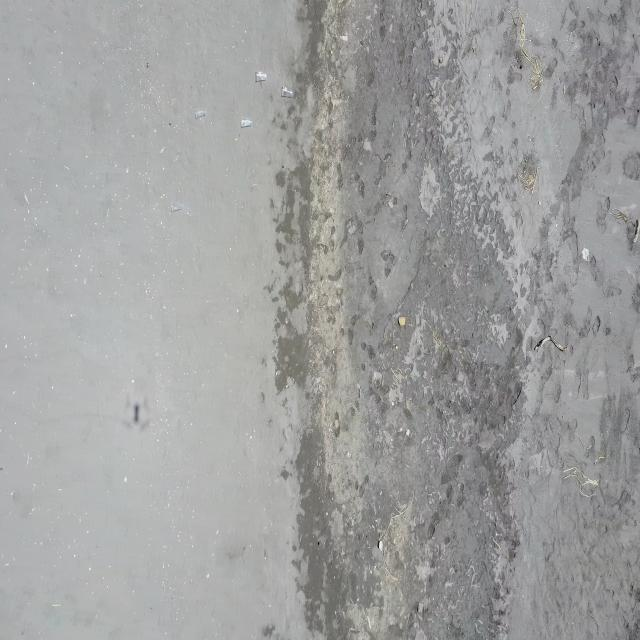takeaway-cup: (240, 115, 253, 129), (281, 86, 294, 100), (193, 107, 207, 120), (170, 200, 184, 212), (254, 70, 266, 83)
